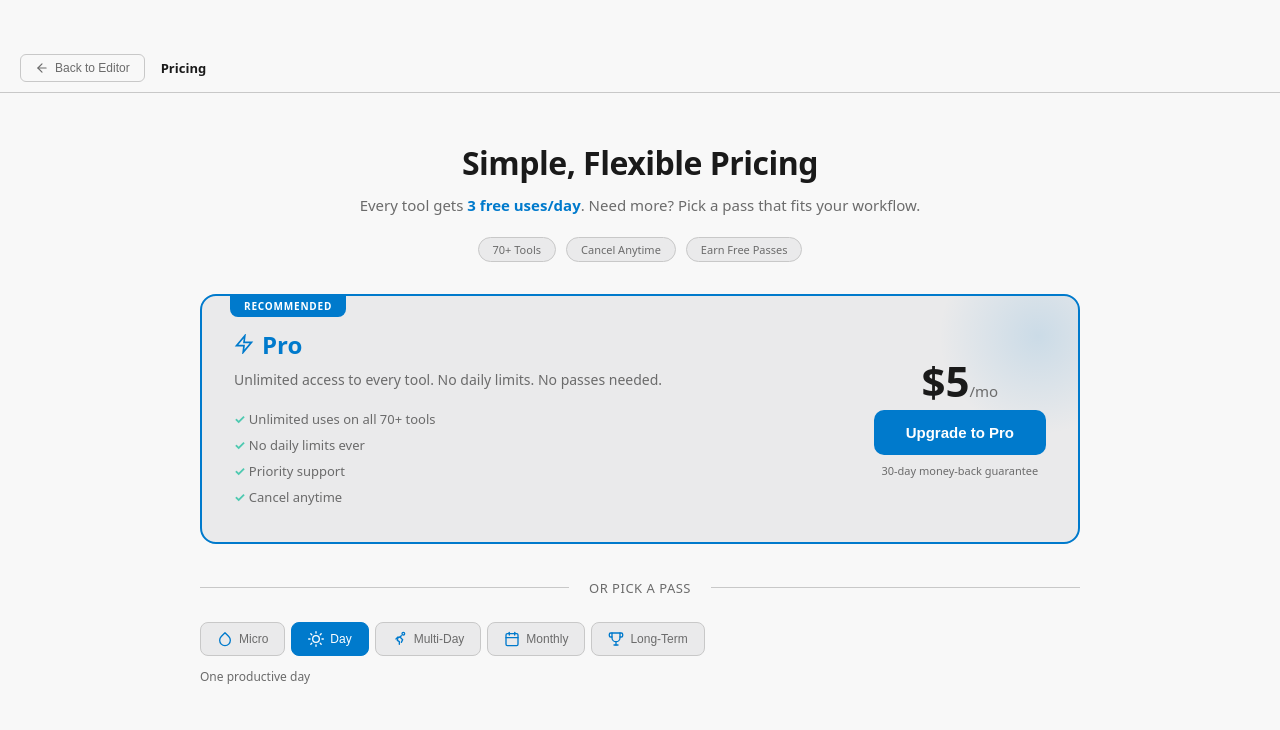
PricingPage › renders pass card with All tools chip for all-tools pass
The width and height of the screenshot is (1280, 730).
Click the button "Multi-Day". click: point(428, 638)
box: [375, 622, 481, 656]
(page scrolled)
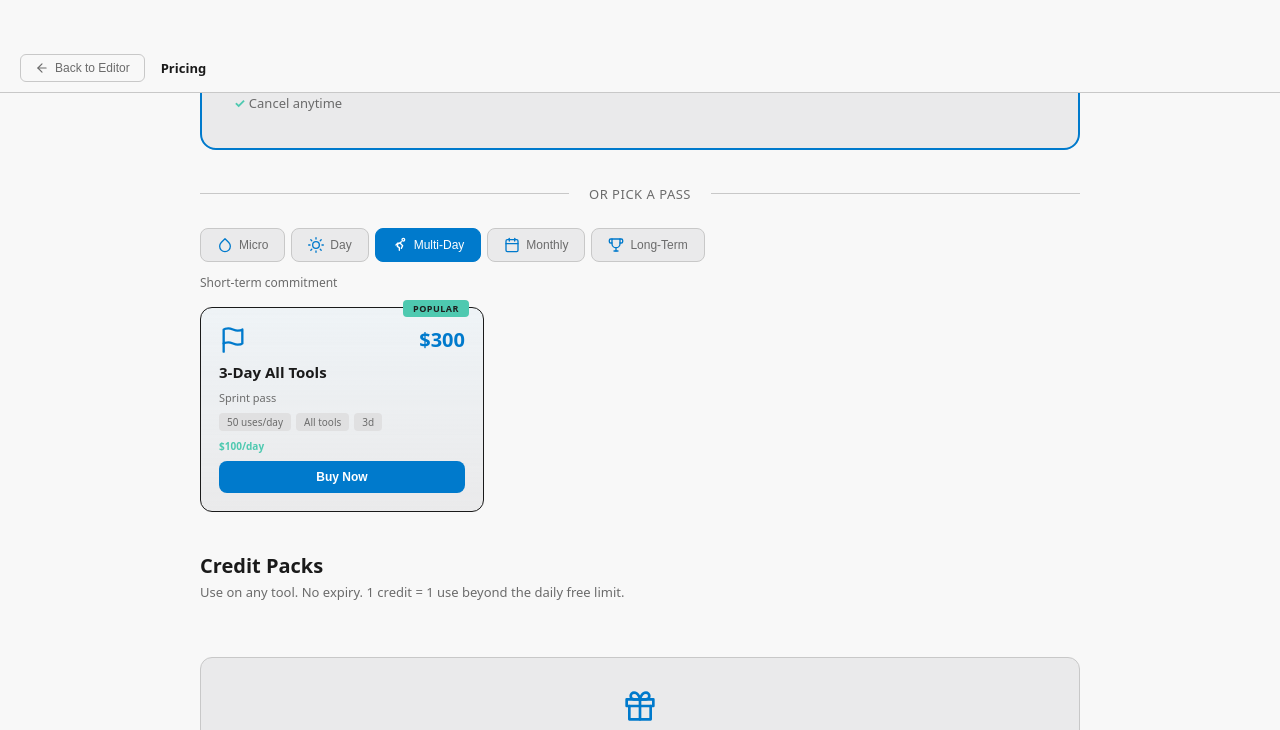
Now the text "All tools" is shown, box [296, 413, 349, 431]
